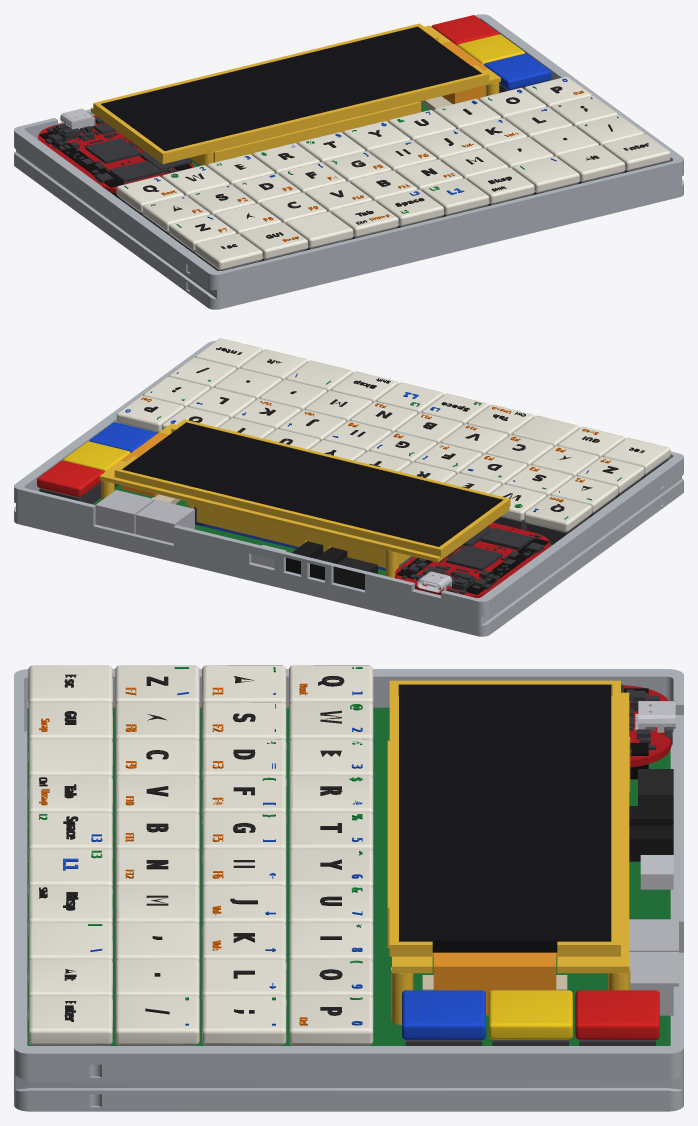
File: open_chrome.glb
3 renders of one model, top to bottom at view 1: azimuth 30°, elevation 25°; view 2: azimuth 150°, elevation 25°; view 3: azimuth 270°, elevation 25°, orthographic. The views are drawn at different scales.
Visible parts, largest first — view 1: Internals, Tray; view 2: Internals, Tray; view 3: Internals, Tray.
Part boxes in pixels (left/top/right/bottom): Internals: left=38, top=15, right=670, bottom=270; Tray: left=14, top=14, right=683, bottom=309; Internals: left=37, top=338, right=670, bottom=597; Tray: left=14, top=341, right=683, bottom=636; Internals: left=27, top=665, right=678, bottom=1045; Tray: left=14, top=669, right=683, bottom=1111.
Size of the model in its own units: 0.1782 by 0.0211 by 0.1312.
